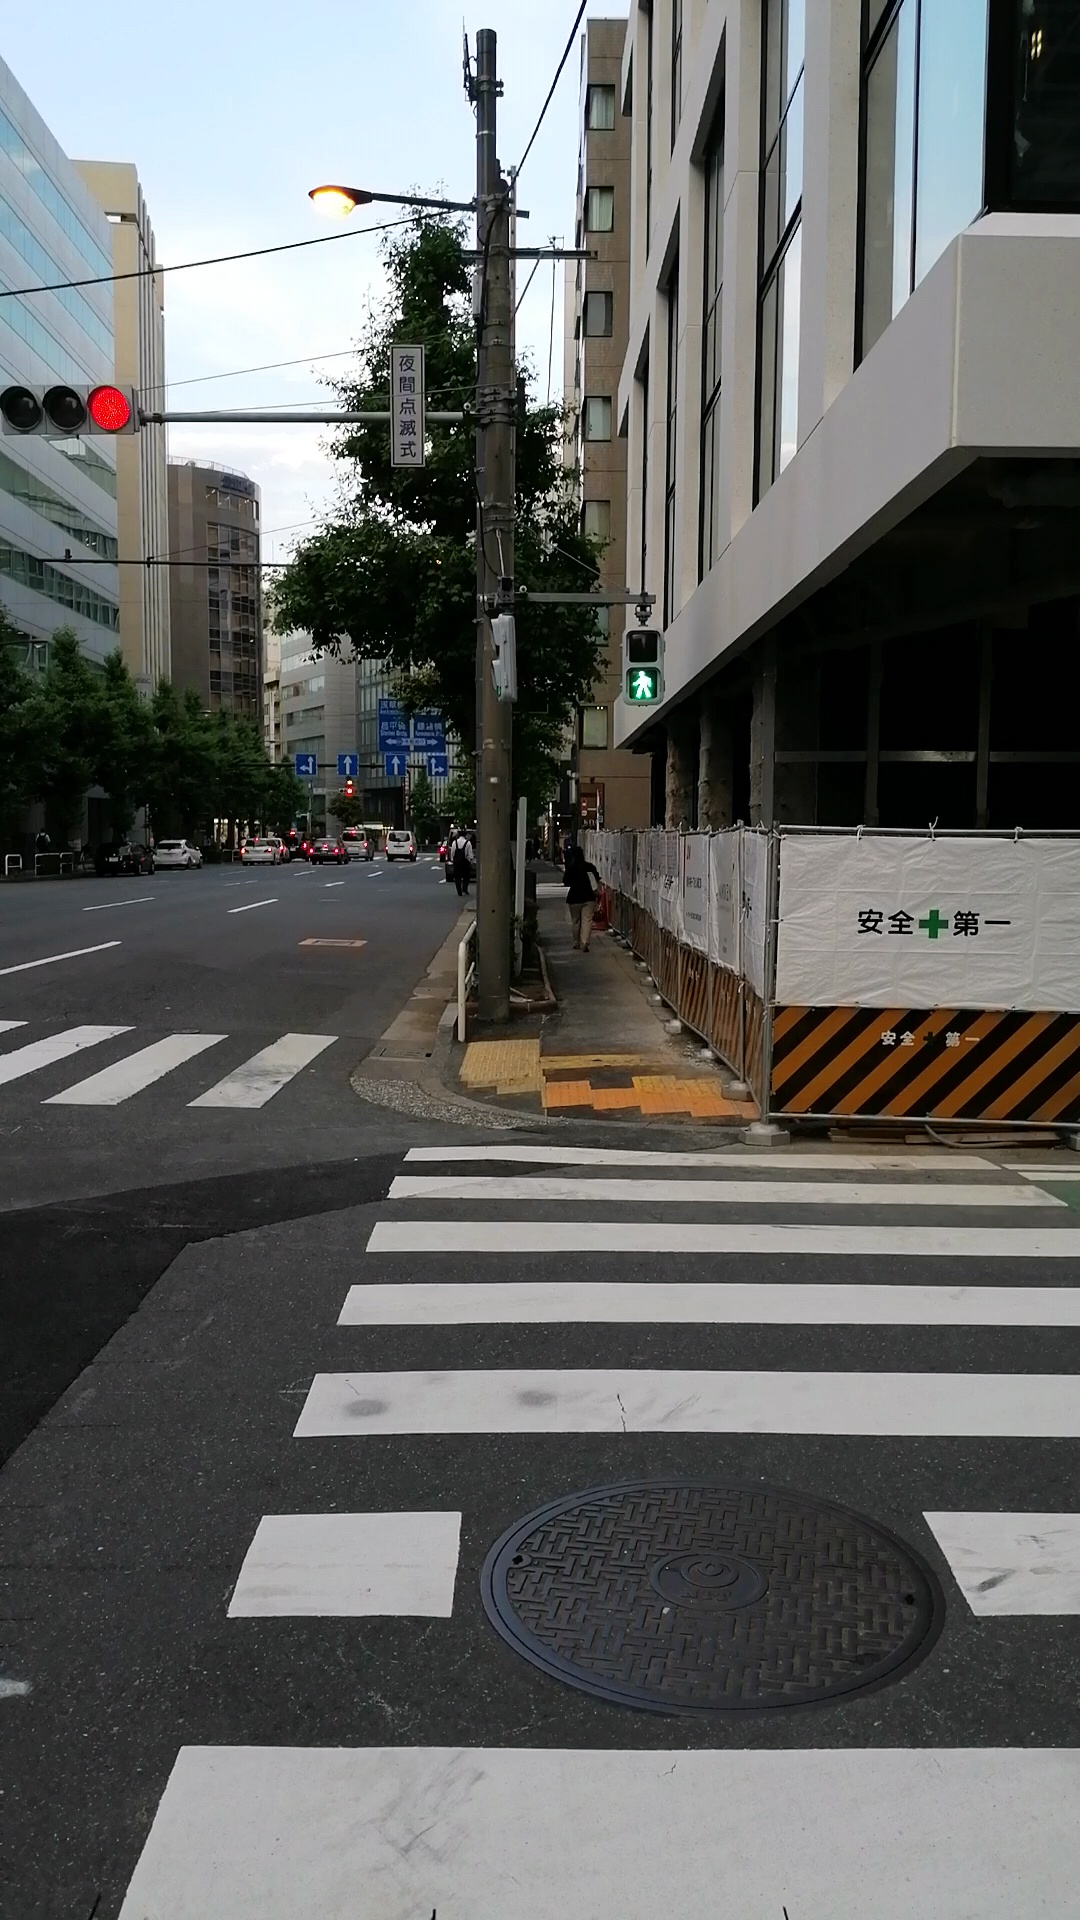green: (621, 625, 666, 705)
